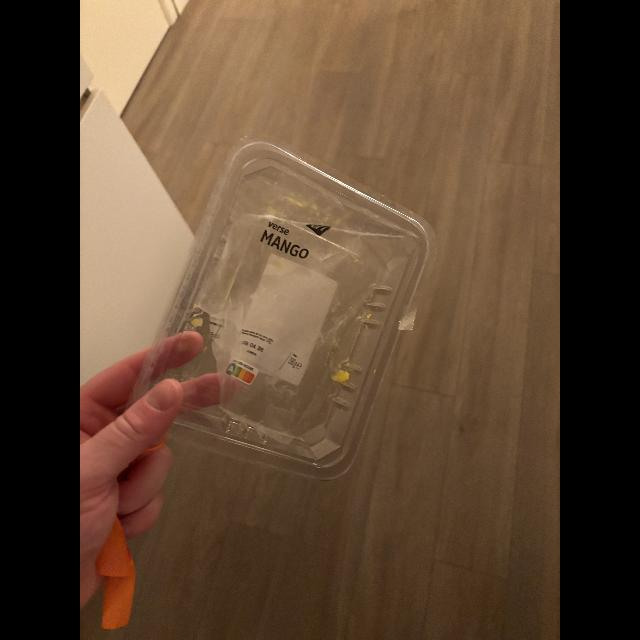Plastic: (118, 136, 436, 484)
